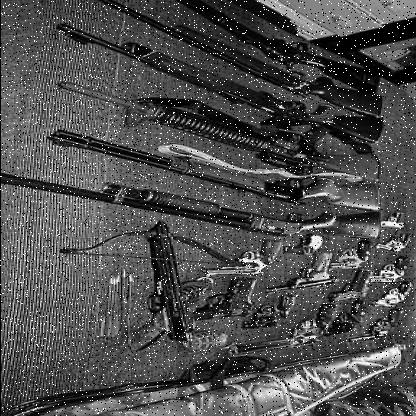rifle: (52, 19, 380, 152), (37, 78, 381, 192), (33, 129, 406, 218), (97, 3, 380, 118), (1, 173, 388, 252), (60, 221, 242, 357), (180, 0, 388, 100)
